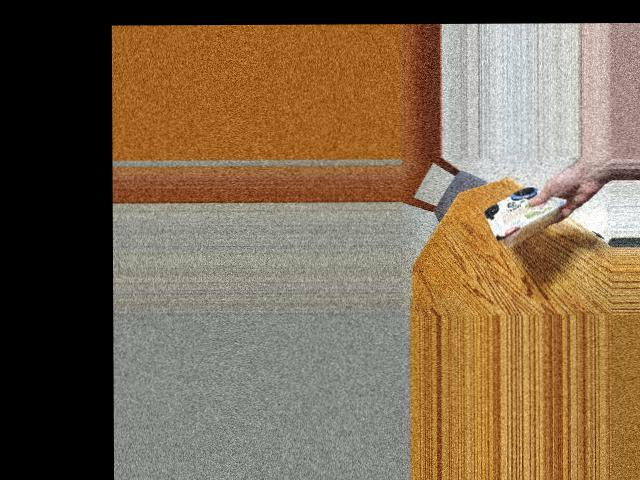cheese: (487, 176, 553, 254)
